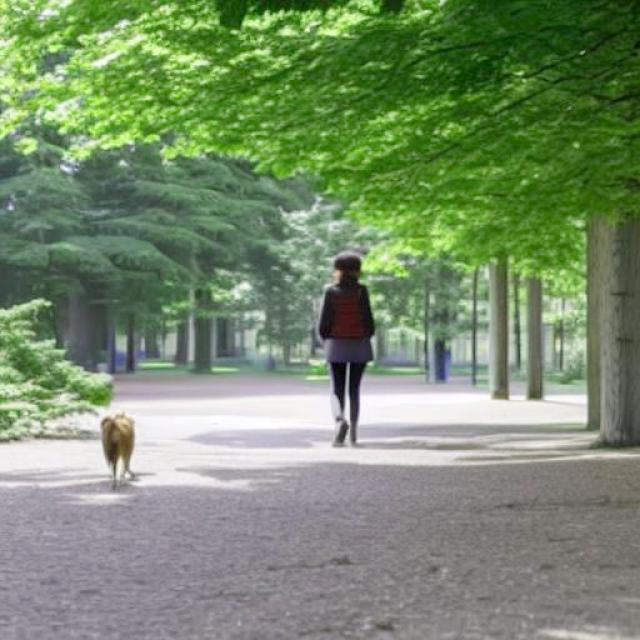Unleashed_Dog: (100, 338, 364, 491)
